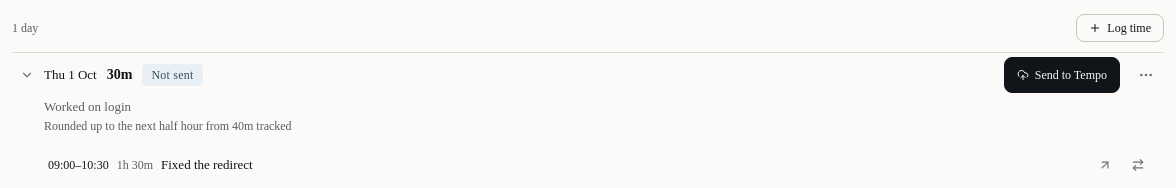
Test: hours note › is part of the open day, not the row
Click the button with class "task-day-toggle" at (70, 74), box top-left (12, 53), bottom-right (996, 97)
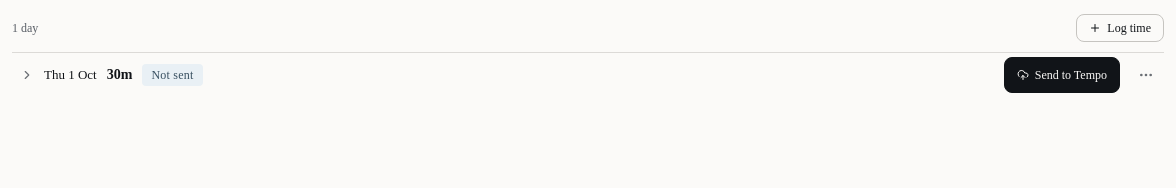
Expected: the text "Rounded up to the next half hour from 40m tracked" is gone
